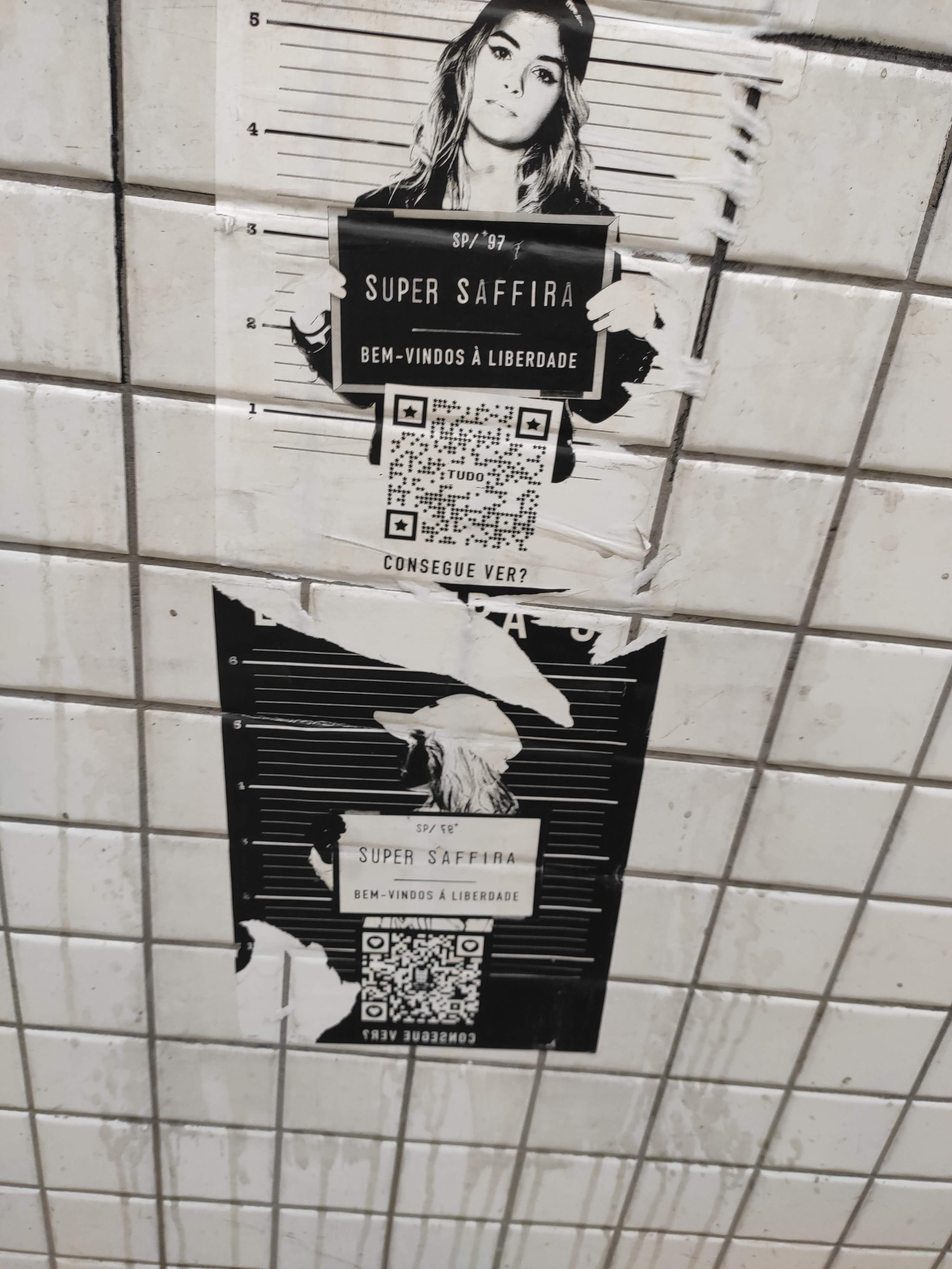QR-CODE: (384, 394, 552, 552), (361, 931, 484, 1026)
